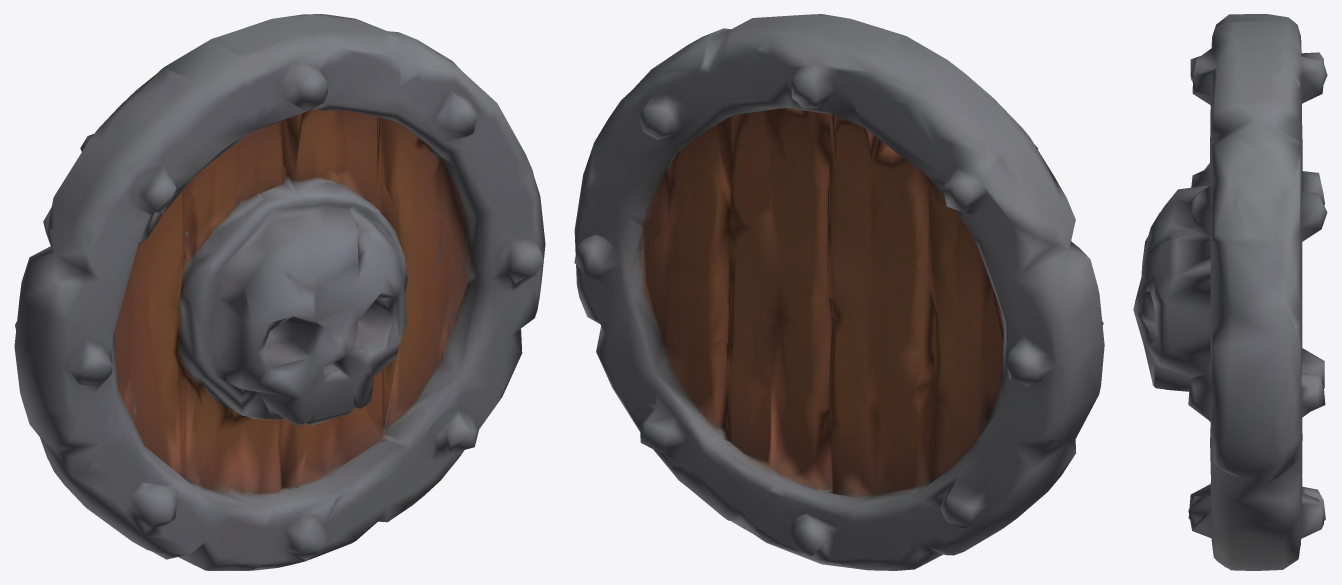
Rendered from BoneGuard_Shield-Bh4E2wip.glb.
3 renders of one model, left to right at view 1: azimuth 30°, elevation 25°; view 2: azimuth 150°, elevation 25°; view 3: azimuth 270°, elevation 25°, orthographic. The views are drawn at different scales.
Parts seen in each view (by area): view 1: tripo_node_25ad52b5-2a41-4577-b328-950375c681d4; view 2: tripo_node_25ad52b5-2a41-4577-b328-950375c681d4; view 3: tripo_node_25ad52b5-2a41-4577-b328-950375c681d4.
Boxes of the visible parts, box(x1,y1,x2,y2) form: tripo_node_25ad52b5-2a41-4577-b328-950375c681d4: box(14, 14, 545, 570); tripo_node_25ad52b5-2a41-4577-b328-950375c681d4: box(574, 14, 1104, 570); tripo_node_25ad52b5-2a41-4577-b328-950375c681d4: box(1133, 14, 1327, 570).
Bounding box in the file's own units: 1.12 × 1.12 × 0.3885.
1 material, 1 textured.
